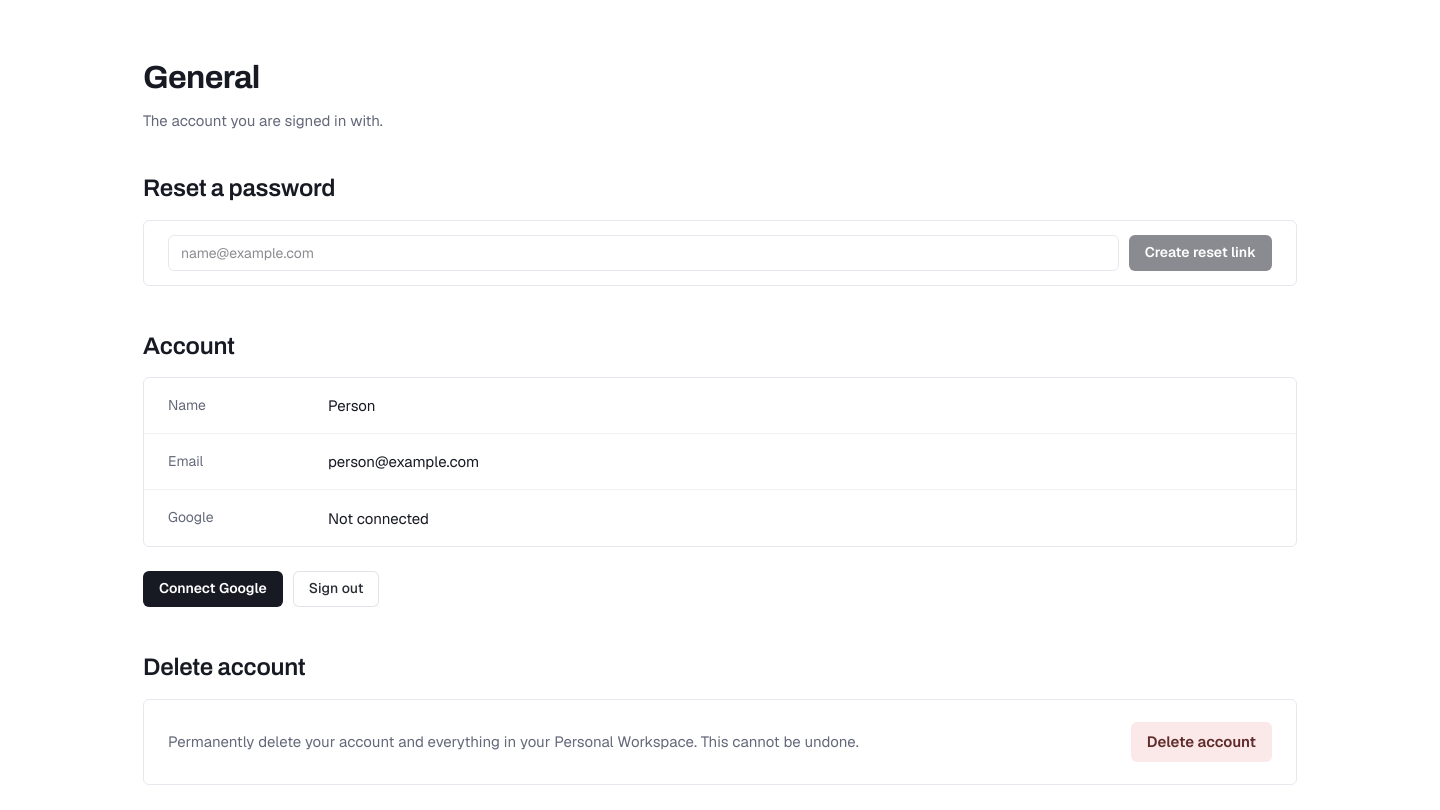
Test: SettingsPage › shows a refused reset link as an error and no link
In the field named "Member's email": (643, 253) [168,235,1119,271], type "stranger@example.com"
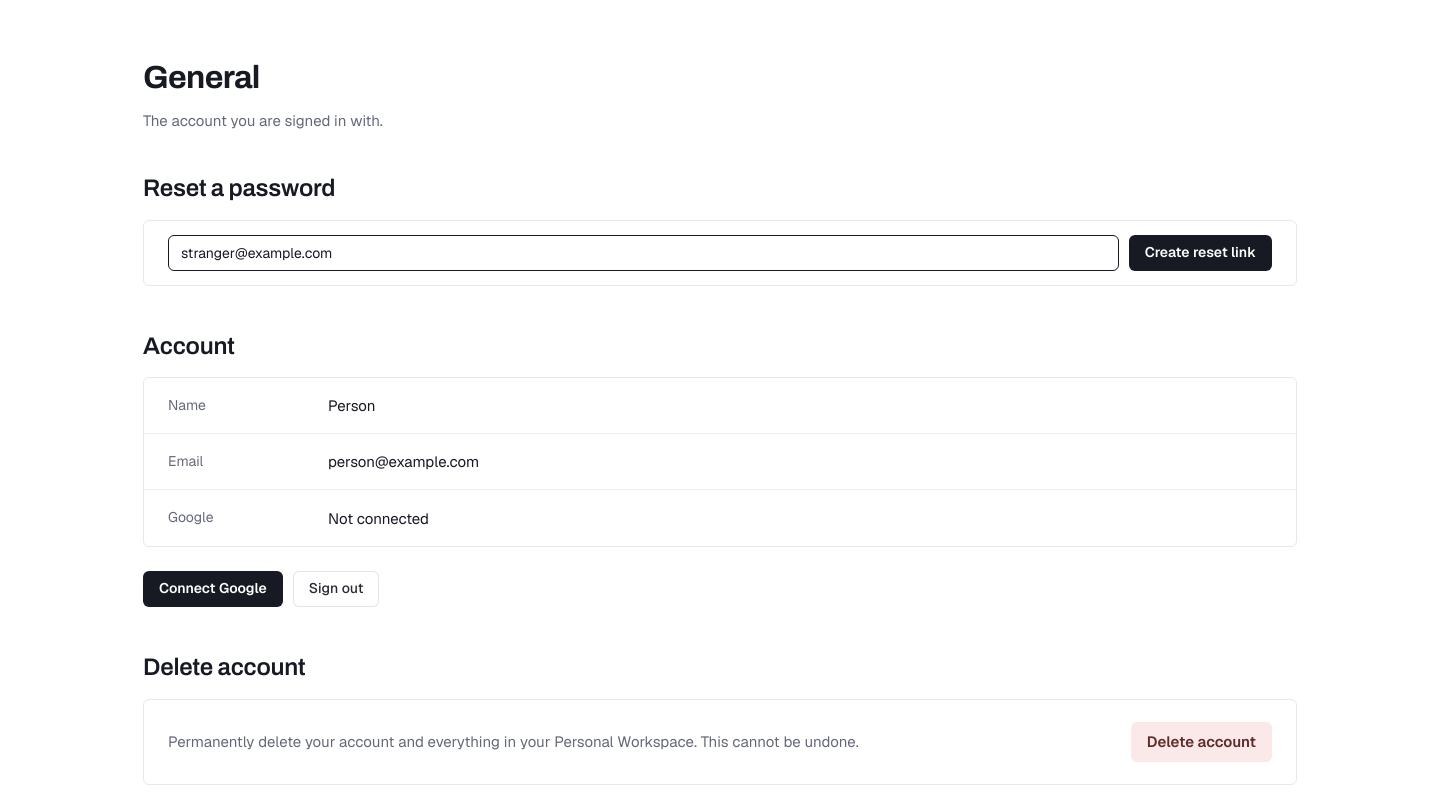
Click the button "Create reset link": (1200, 253) [1129,235,1272,271]
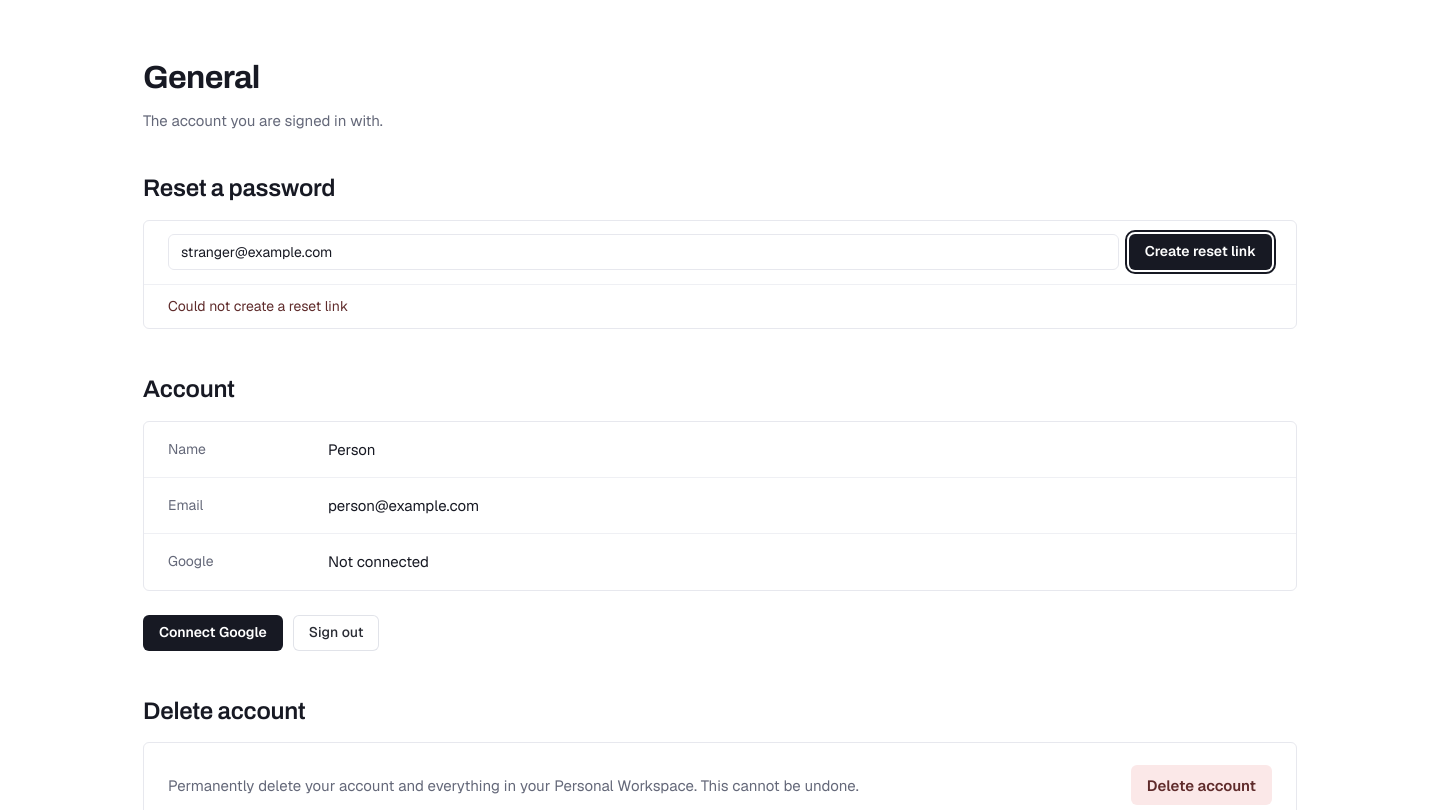
Expected: the text "Could not create a reset link" is shown, [168,297,348,315]
